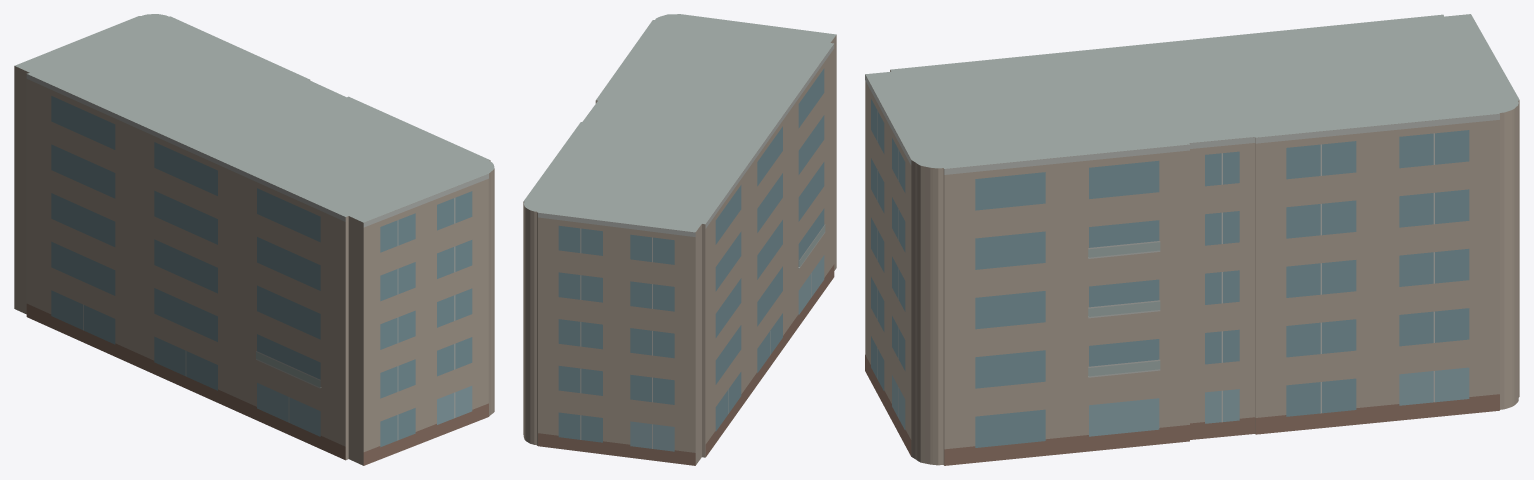
File: survey-upis-32909587.glb
3 views of the same model, side by side, from view 1: azimuth 30°, elevation 25°; view 2: azimuth 150°, elevation 25°; view 3: azimuth 270°, elevation 25° (orthographic). The views are drawn at different scales.
Visible parts, largest first — view 1: survey-upis-32909587.tmp; view 2: survey-upis-32909587.tmp; view 3: survey-upis-32909587.tmp.
Boxes of the visible parts, x1=… form: survey-upis-32909587.tmp: x1=14, y1=14, x2=494, y2=465; survey-upis-32909587.tmp: x1=523, y1=14, x2=836, y2=465; survey-upis-32909587.tmp: x1=865, y1=14, x2=1519, y2=465.
Bounding box in the file's own units: 13.56 × 12.1 × 24.19.
